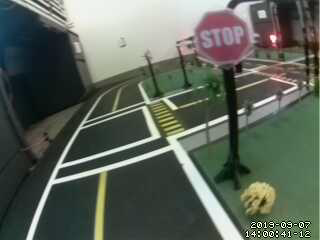Stop_Sign: (186, 6, 259, 65)
